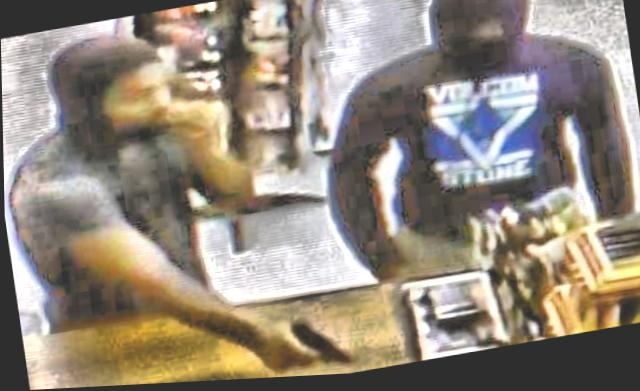pistol: (273, 306, 354, 378)
